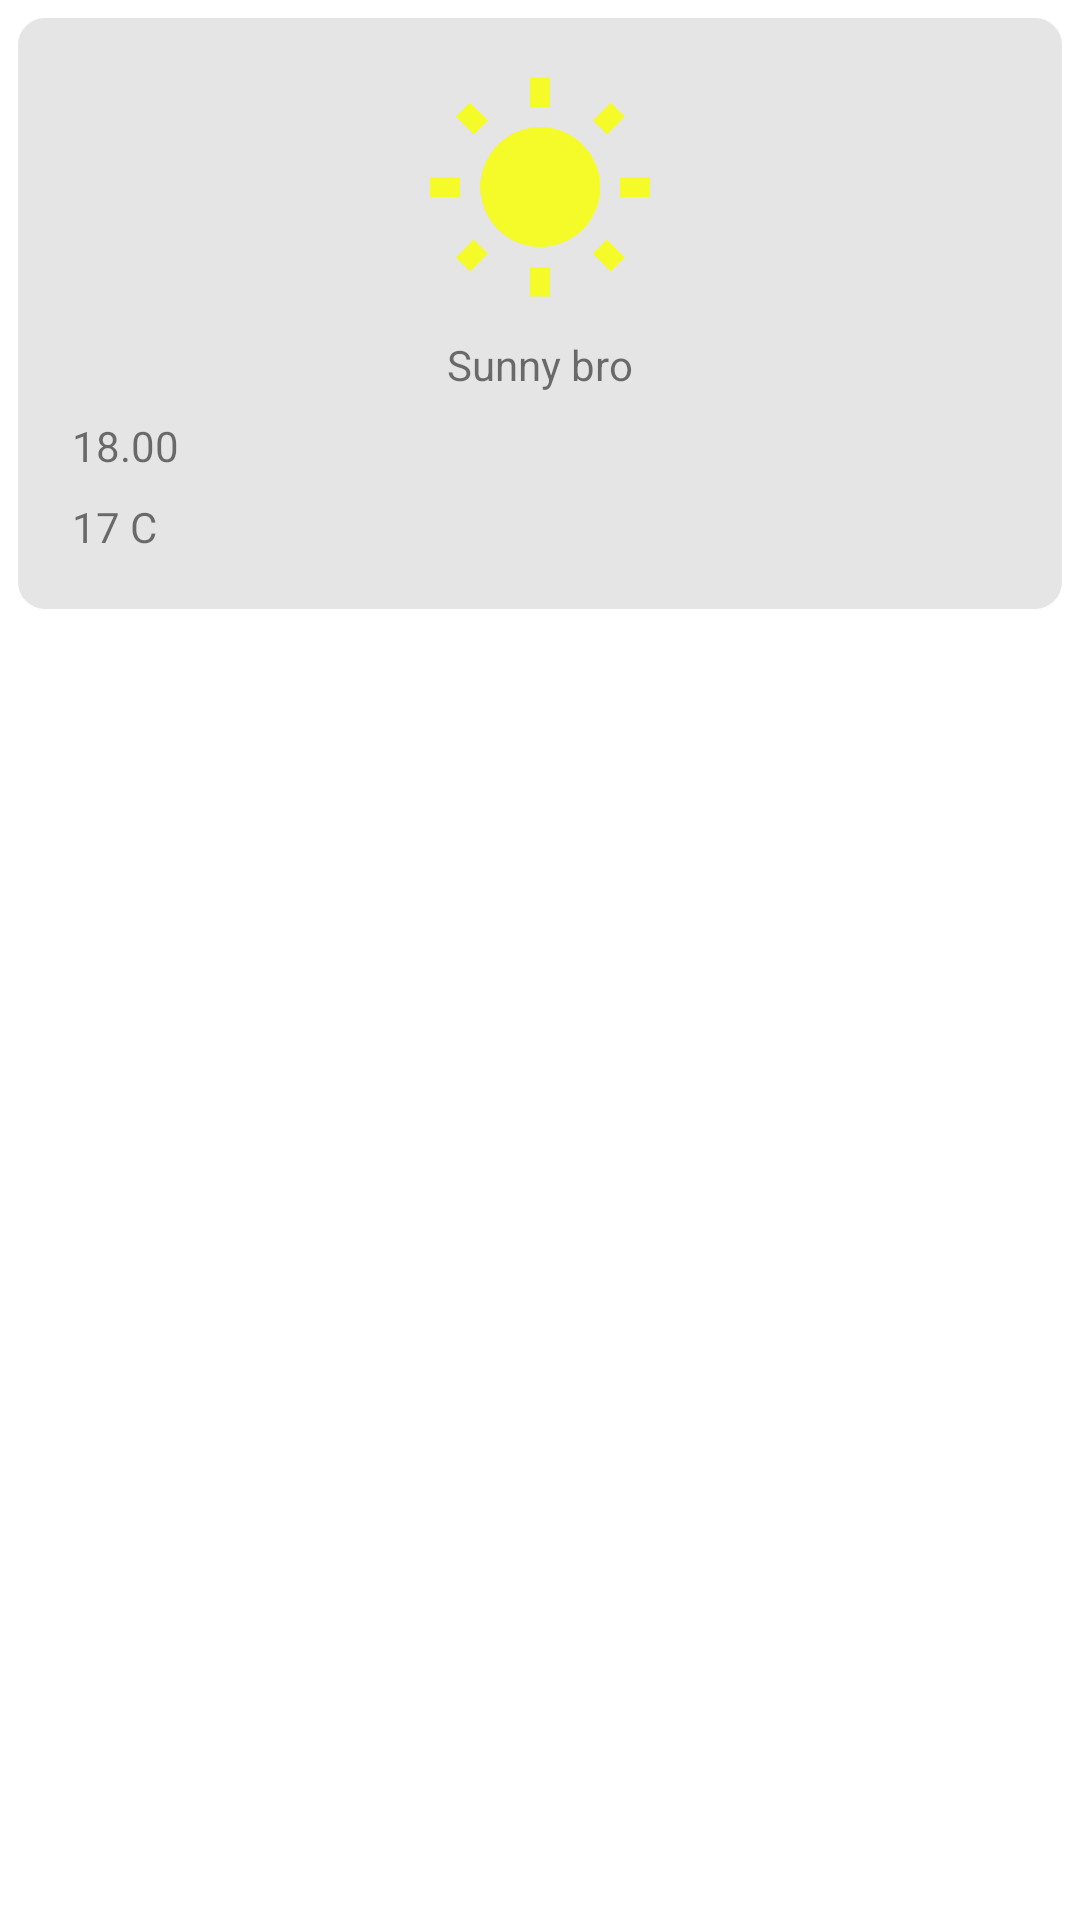

Icon click points for this 1080px×1920px phone screenshot, format (x,y):
sun: (540,187)
